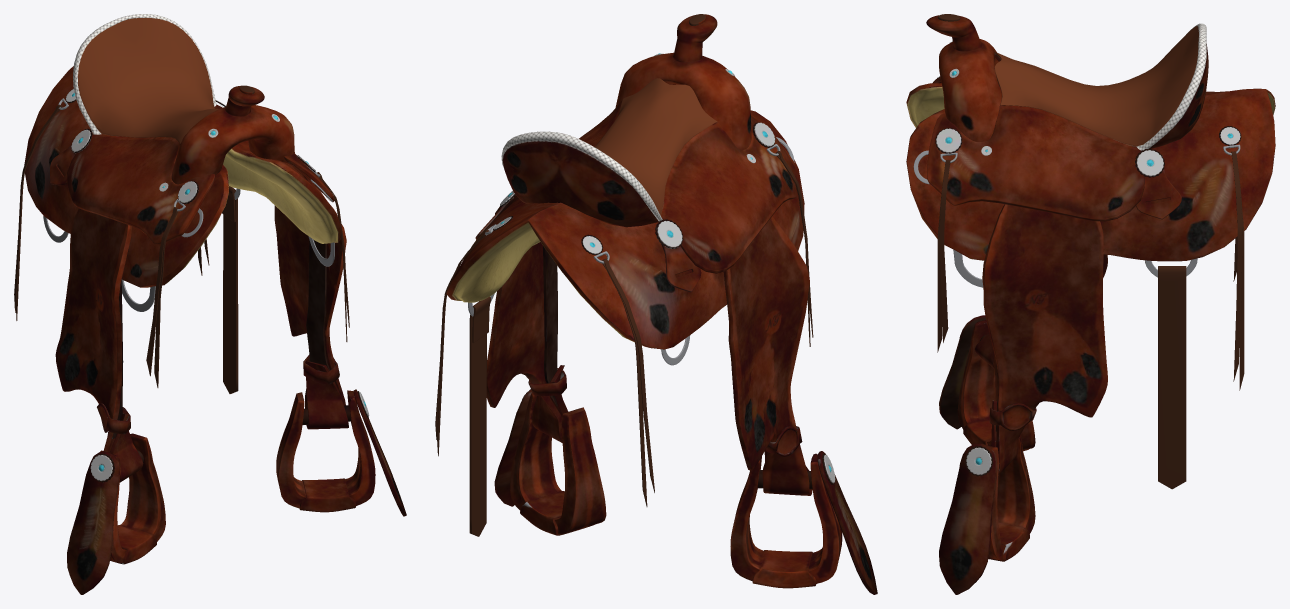
File: saddle.glb
3 renders of one model, left to right at view 1: azimuth 30°, elevation 25°; view 2: azimuth 150°, elevation 25°; view 3: azimuth 270°, elevation 25°, orthographic. The views are drawn at different scales.
Parts seen in each view (by area): view 1: saddleskirt_low, seat_low_seat, seat_low_leather, fenderRT_low, fenderLF_low, horn_low_leather, stirrupLF_low, stirrupleatherRT_low, stirrupRT_low, GirthstrapLF_low, fenderleatherLF_low, FrontstrapRT_low (+4 smaller); view 2: seat_low_leather, saddleskirt_low, fenderRT_low, stirrupLF_low, fenderLF_low, seat_low_seat, horn_low_leather, stirrupRT_low, GirthstrapLF_low, stirrupleatherRT_low, RearstrapRT_low, fenderleatherLF_low (+4 smaller); view 3: fenderLF_low, saddleskirt_low, seat_low_leather, seat_low_seat, GirthstrapLF_low, horn_low_leather, stirrupleatherLF_low, stirrupLF_low, stirrupRT_low, RearstrapLF_low, stirrupleatherRT_low, FrontstrapLF_low (+5 smaller).
Boxes of the visible parts, bbox=[...] form: saddleskirt_low: bbox=[24, 66, 341, 287]; seat_low_seat: bbox=[77, 18, 218, 143]; seat_low_leather: bbox=[50, 14, 334, 244]; fenderRT_low: bbox=[55, 207, 143, 482]; fenderLF_low: bbox=[274, 165, 348, 429]; horn_low_leather: bbox=[171, 85, 294, 184]; stirrupLF_low: bbox=[276, 390, 375, 512]; stirrupleatherRT_low: bbox=[67, 451, 119, 594]; stirrupRT_low: bbox=[100, 433, 165, 564]; GirthstrapLF_low: bbox=[222, 186, 238, 393]; fenderleatherLF_low: bbox=[306, 239, 336, 383]; FrontstrapRT_low: bbox=[146, 207, 178, 387]; seat_low_leather: bbox=[475, 100, 796, 292]; saddleskirt_low: bbox=[446, 110, 804, 349]; fenderRT_low: bbox=[723, 217, 812, 495]; stirrupLF_low: bbox=[510, 392, 606, 535]; fenderLF_low: bbox=[486, 242, 568, 442]; seat_low_seat: bbox=[594, 78, 717, 215]; horn_low_leather: bbox=[615, 14, 751, 150]; stirrupRT_low: bbox=[730, 453, 842, 588]; GirthstrapLF_low: bbox=[469, 296, 490, 536]; stirrupleatherRT_low: bbox=[817, 451, 877, 594]; RearstrapRT_low: bbox=[602, 258, 654, 506]; fenderleatherLF_low: bbox=[543, 246, 557, 406]; fenderLF_low: bbox=[982, 204, 1107, 474]; saddleskirt_low: bbox=[906, 83, 1275, 261]; seat_low_leather: bbox=[927, 23, 1208, 221]; seat_low_seat: bbox=[994, 26, 1198, 146]; GirthstrapLF_low: bbox=[1158, 266, 1186, 489]; horn_low_leather: bbox=[926, 15, 1001, 141]; stirrupleatherLF_low: bbox=[939, 443, 997, 594]; stirrupLF_low: bbox=[987, 435, 1035, 561]; stirrupRT_low: bbox=[957, 320, 1035, 450]; RearstrapLF_low: bbox=[1231, 151, 1244, 390]; stirrupleatherRT_low: bbox=[939, 315, 986, 429]; FrontstrapLF_low: bbox=[937, 160, 950, 352].
Bounding box in the file's own units: 0.8061 × 1.1 × 0.74.
3 materials, 1 textured.
